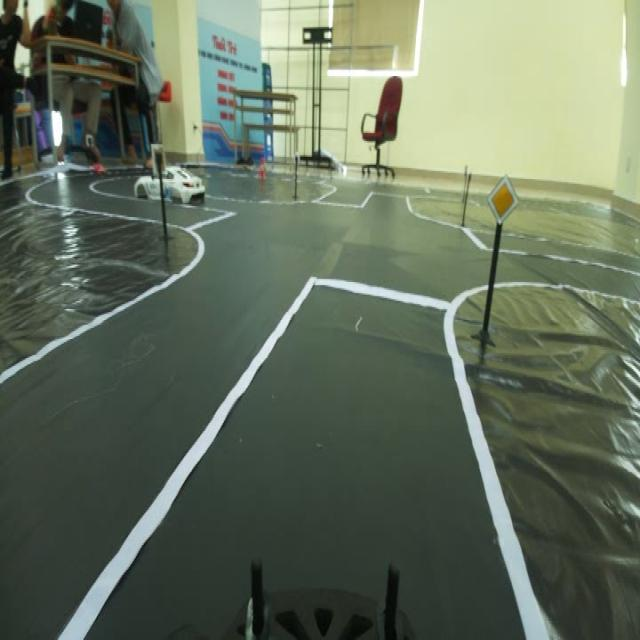priority: (483, 173, 518, 228)
